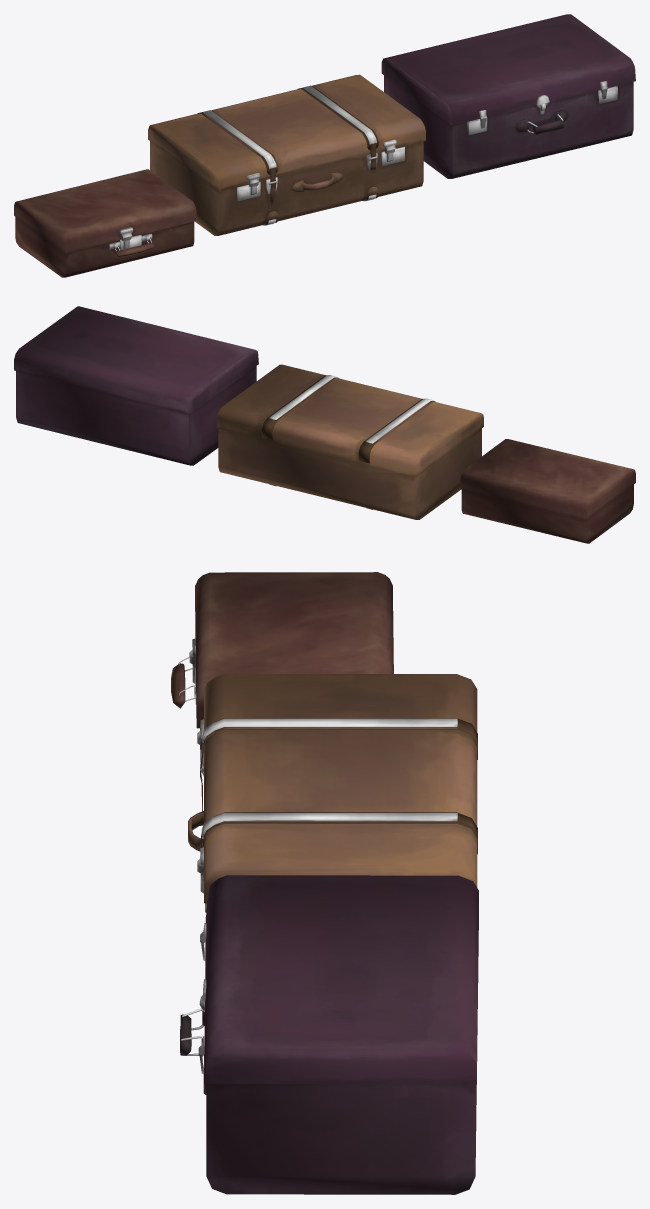
File: Equipajes.fbx
3 renders of one model, top to bottom at view 1: azimuth 30°, elevation 25°; view 2: azimuth 150°, elevation 25°; view 3: azimuth 270°, elevation 25°, orthographic. The views are drawn at different scales.
Parts seen in each view (by area): view 1: 2, 3, 1; view 2: 2, 3, 1; view 3: 3, 2, 1.
Part boxes in pixels (left/top/right/bottom): 2: left=148, top=74, right=425, bottom=235; 3: left=381, top=14, right=635, bottom=178; 1: left=14, top=169, right=196, bottom=277; 2: left=216, top=364, right=483, bottom=519; 3: left=14, top=306, right=258, bottom=465; 1: left=460, top=439, right=635, bottom=543; 3: left=180, top=875, right=478, bottom=1194; 2: left=188, top=674, right=477, bottom=922; 1: left=171, top=572, right=393, bottom=771.
Bounding box in the file's own units: 94.64 × 12.4 × 22.87.
